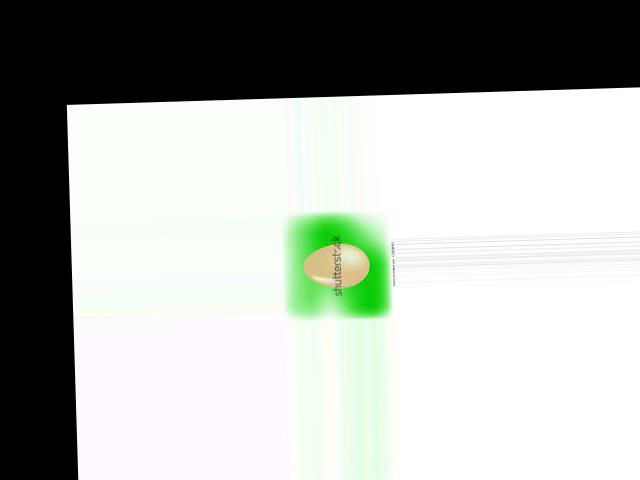egg: (302, 242, 370, 288)
